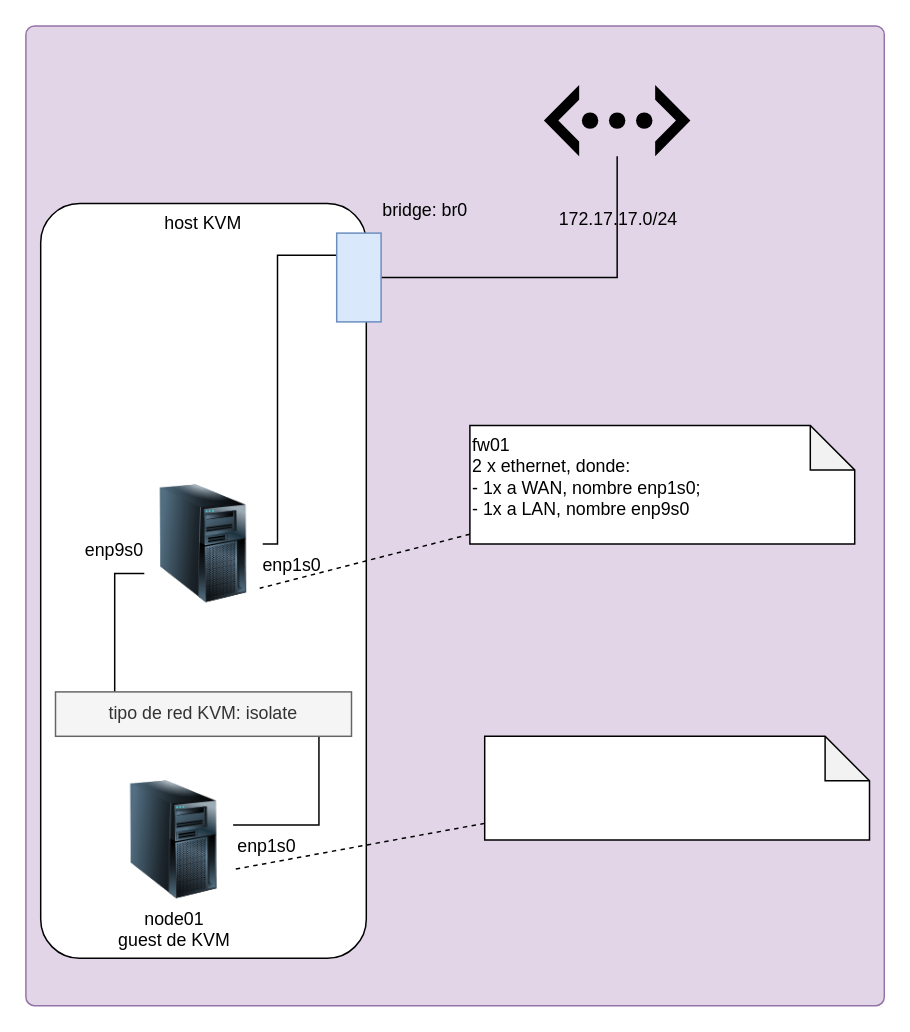
Image size: 910x1032. Some labels were removed from this diagram. The shapes that lost their labels are listed below. From the top down, each one's box as (x1, y1, x2, y2) in pixels, then its label:
(144, 484, 262, 602): fw guest de KVM
(483, 735, 870, 840): node01 1 x ethernet, donde: - 1x a LAN, nombre enp9s0
